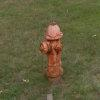Hydrant: (37, 17, 70, 81)
